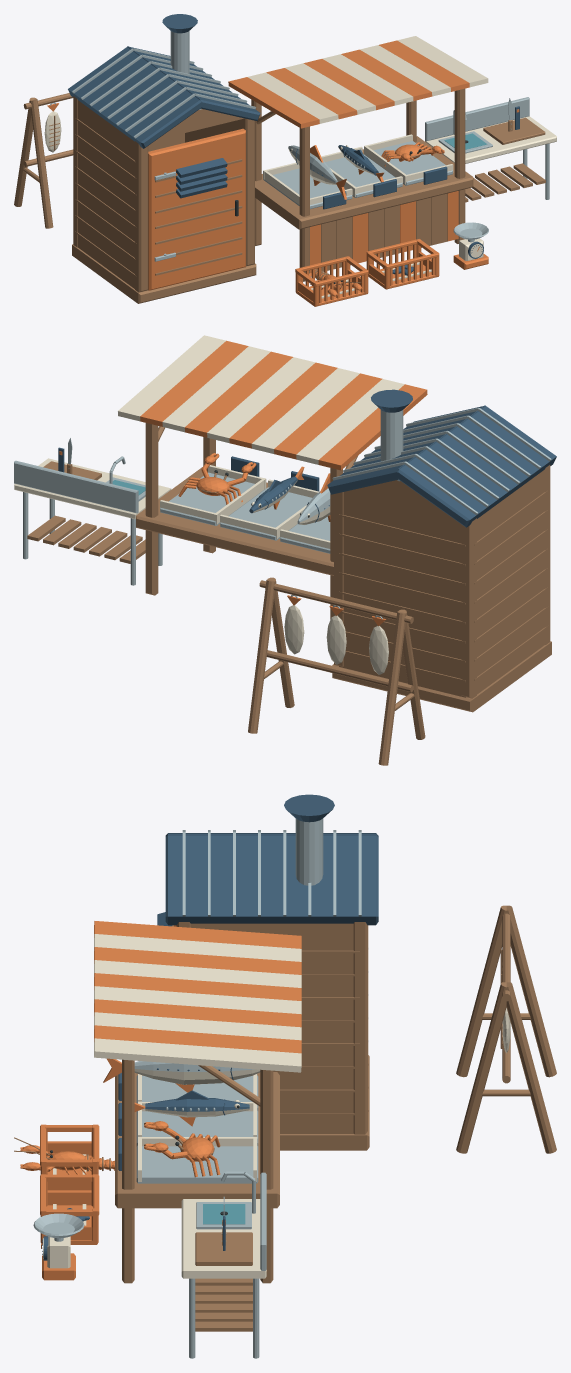
File: harbor-and-tackle-seafood-market-06af0bbf__19602.glb
The picture shows the model from 3 angles, top to bottom: view 1: azimuth 30°, elevation 25°; view 2: azimuth 150°, elevation 25°; view 3: azimuth 270°, elevation 25°; orthographic projection. The views are drawn at different scales.
Visible parts, largest first — view 1: 011-smokehouse/cedar, 000-fish-market-stall/cedar, 011-smokehouse/orange, 011-smokehouse/navy, 000-fish-market-stall/orange, 000-fish-market-stall/ivory, 011-smokehouse/metal, 000-fish-market-stall/metal, 012-fish-drying-rack/cedar, 009-fish-cleaning-table/cedar, 006-seafood-crate/orange, 009-fish-cleaning-table/metal (+9 smaller); view 2: 011-smokehouse/cedar, 000-fish-market-stall/ivory, 000-fish-market-stall/orange, 011-smokehouse/navy, 000-fish-market-stall/cedar, 012-fish-drying-rack/cedar, 011-smokehouse/metal, 009-fish-cleaning-table/metal, 000-fish-market-stall/metal, 009-fish-cleaning-table/cedar, 012-fish-drying-rack/ivory, 009-fish-cleaning-table/ivory (+4 smaller); view 3: 011-smokehouse/cedar, 011-smokehouse/navy, 000-fish-market-stall/ivory, 000-fish-market-stall/orange, 000-fish-market-stall/cedar, 012-fish-drying-rack/cedar, 000-fish-market-stall/metal, 009-fish-cleaning-table/cedar, 011-smokehouse/metal, 009-fish-cleaning-table/ivory, 009-fish-cleaning-table/metal, 006-seafood-crate/orange (+9 smaller).
Boxes of the visible parts, x1,y1,x2,y2 form: 011-smokehouse/cedar: (72, 96, 256, 303); 000-fish-market-stall/cedar: (251, 88, 473, 281); 011-smokehouse/orange: (148, 128, 245, 290); 011-smokehouse/navy: (68, 14, 260, 198); 000-fish-market-stall/orange: (228, 40, 469, 272); 000-fish-market-stall/ivory: (247, 36, 488, 204); 011-smokehouse/metal: (72, 31, 255, 261); 000-fish-market-stall/metal: (263, 141, 452, 208); 012-fish-drying-rack/cedar: (14, 93, 73, 228); 009-fish-cleaning-table/cedar: (465, 117, 545, 202); 006-seafood-crate/orange: (366, 239, 439, 289); 009-fish-cleaning-table/metal: (425, 97, 549, 199); 011-smokehouse/cedar: (332, 465, 551, 712); 000-fish-market-stall/ivory: (118, 335, 404, 548); 000-fish-market-stall/orange: (140, 340, 427, 470); 011-smokehouse/navy: (327, 389, 556, 527); 000-fish-market-stall/cedar: (136, 423, 357, 619); 012-fish-drying-rack/cedar: (248, 577, 425, 765); 011-smokehouse/metal: (332, 407, 551, 515); 009-fish-cleaning-table/metal: (14, 456, 162, 585); 000-fish-market-stall/metal: (160, 472, 330, 553); 009-fish-cleaning-table/cedar: (27, 461, 145, 563); 012-fish-drying-rack/ivory: (284, 605, 388, 674); 009-fish-cleaning-table/ivory: (14, 458, 171, 519); 011-smokehouse/cedar: (172, 922, 369, 1150); 011-smokehouse/navy: (157, 794, 378, 926); 000-fish-market-stall/ivory: (94, 934, 301, 1181); 000-fish-market-stall/orange: (94, 921, 301, 1053); 000-fish-market-stall/cedar: (115, 1059, 279, 1283); 012-fish-drying-rack/cedar: (456, 905, 556, 1153); 000-fish-market-stall/metal: (136, 1075, 258, 1183); 009-fish-cleaning-table/cedar: (195, 1232, 252, 1331); 011-smokehouse/metal: (182, 818, 361, 916); 009-fish-cleaning-table/ivory: (181, 1199, 266, 1278); 009-fish-cleaning-table/metal: (189, 1171, 266, 1358); 006-seafood-crate/orange: (40, 1174, 99, 1244).
Bounding box in the file's own units: 6.54 × 3.36 × 5.1.
